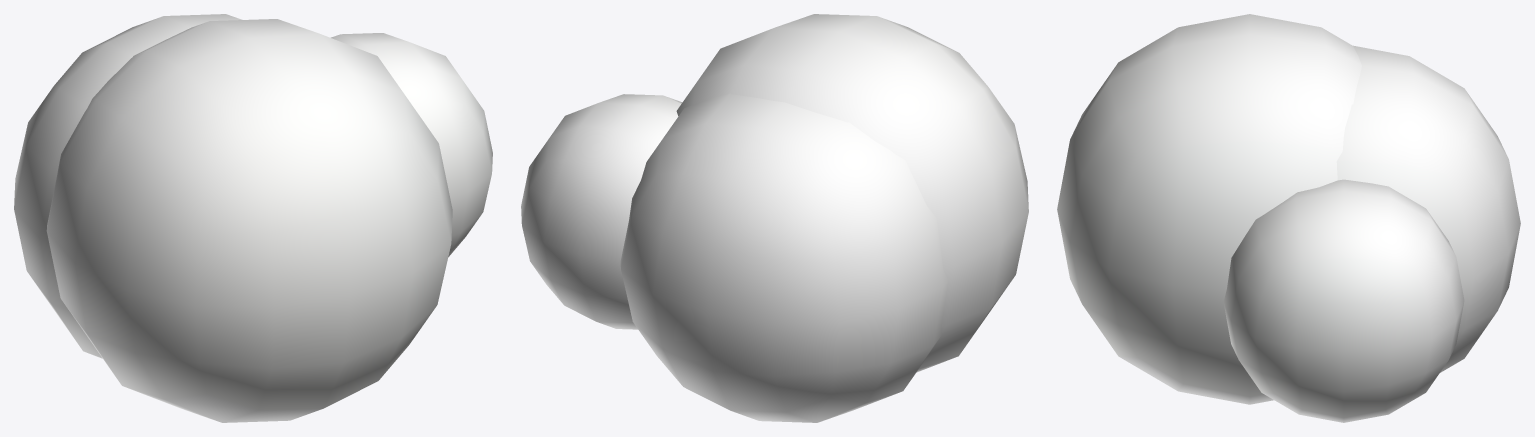
Rendered from Sheep_feathers.fbx.
3 renders of one model, left to right at view 1: azimuth 30°, elevation 25°; view 2: azimuth 150°, elevation 25°; view 3: azimuth 270°, elevation 25°, orthographic. The views are drawn at different scales.
Parts seen in each view (by area): view 1: long_cuu1, long_cuu3; view 2: long_cuu3, long_cuu1; view 3: long_cuu1, long_cuu3.
Boxes of the visible parts, box(x1,y1,x2,y2) form: long_cuu1: box(46, 19, 452, 422); long_cuu3: box(14, 14, 492, 358); long_cuu3: box(521, 93, 948, 422); long_cuu1: box(676, 14, 1028, 372); long_cuu1: box(1057, 14, 1361, 404); long_cuu3: box(1223, 45, 1520, 422).
Size of the model in its own units: 39.2 by 30.47 by 36.67.
